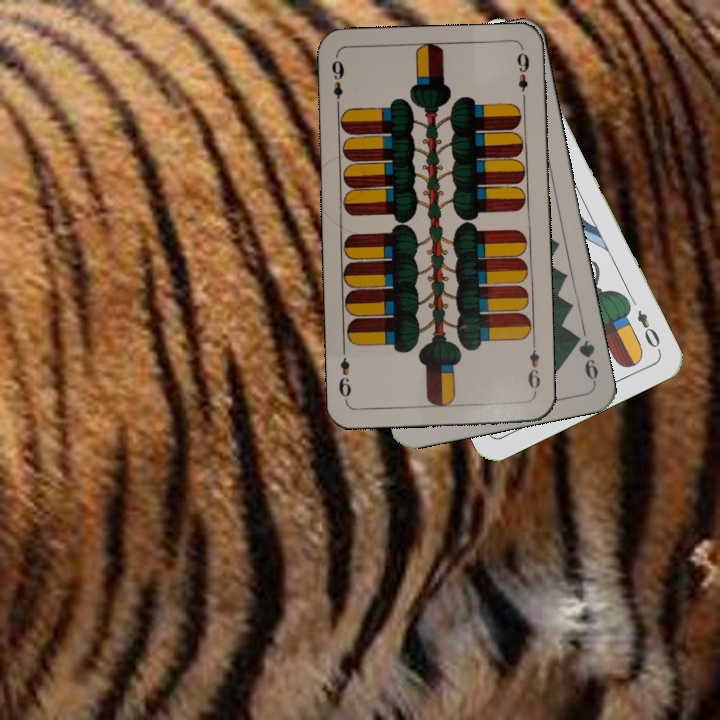E9: (524, 338, 543, 397), (327, 56, 346, 112)
EO: (633, 306, 664, 355)
G9: (569, 329, 601, 386)
